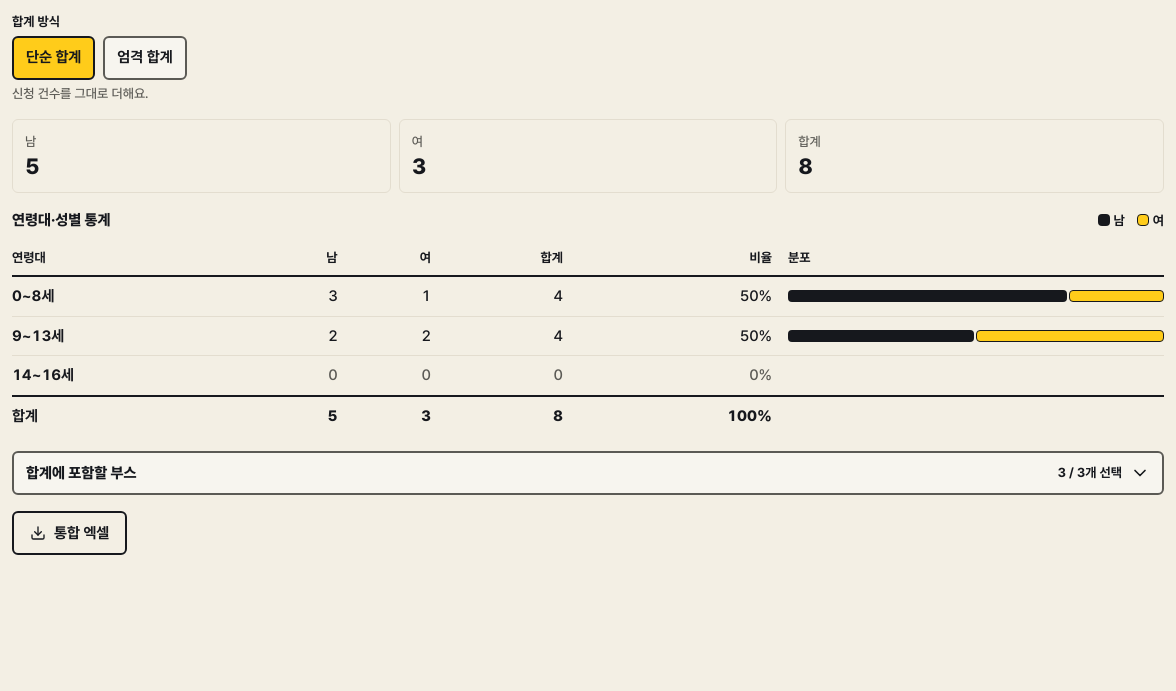
it: StatsPanel 순서와 부스 선택 › 부스 선택은 접혀 있고 선택 수를 보여 주며, 펼치면 넓은 화면 2열의 스크롤 목록이다
Click the button "합계에 포함할 부스 3 / 3개 선택".
click(81, 473)  # box [12,451,1164,495]
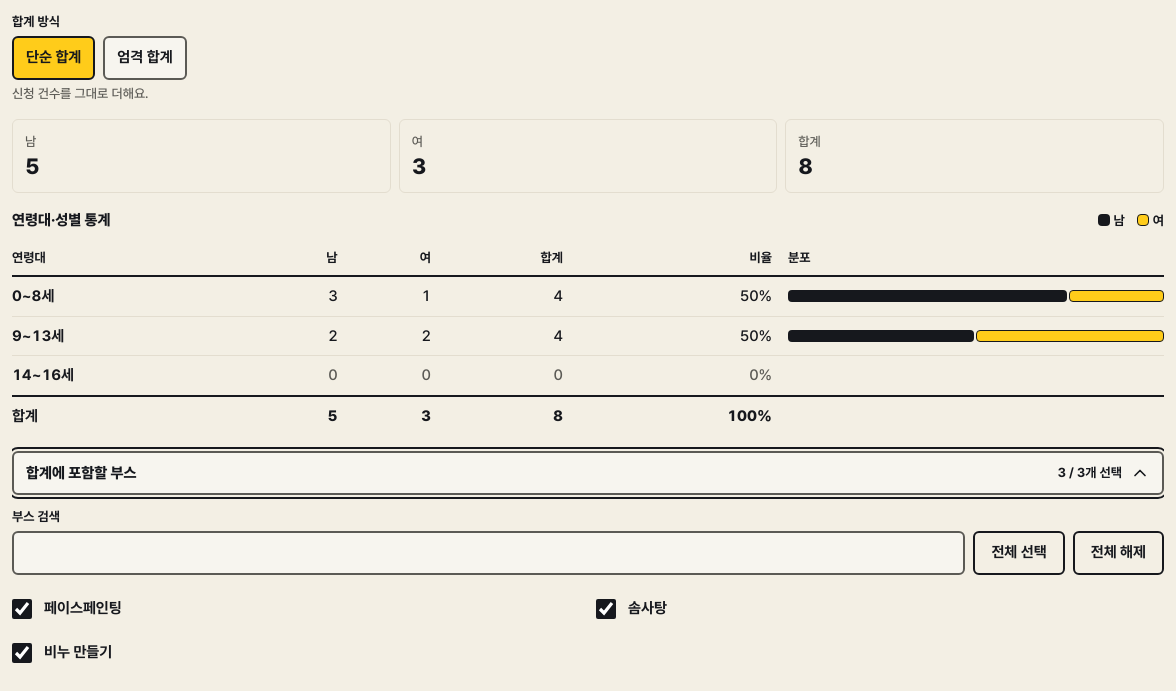
Click the checkbox labelled "솜사탕".
click(606, 609)  # box [596,599,616,619]
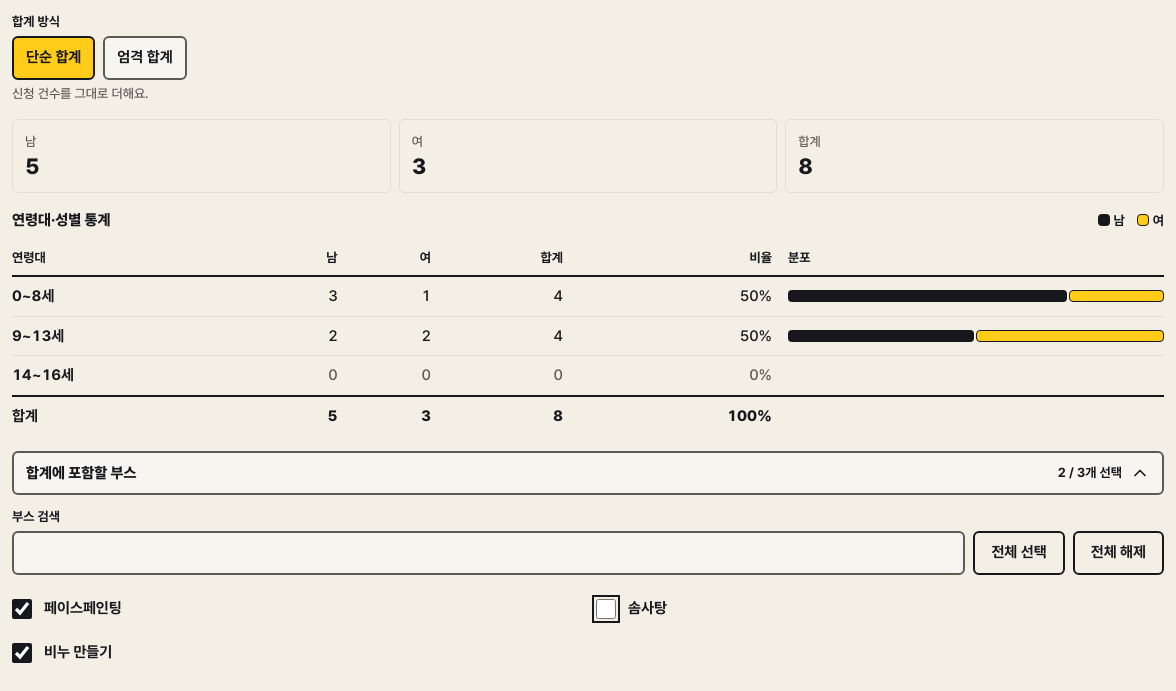
Check: the button "합계에 포함할 부스 2 / 3개 선택" is shown, box [12,451,1164,495]
